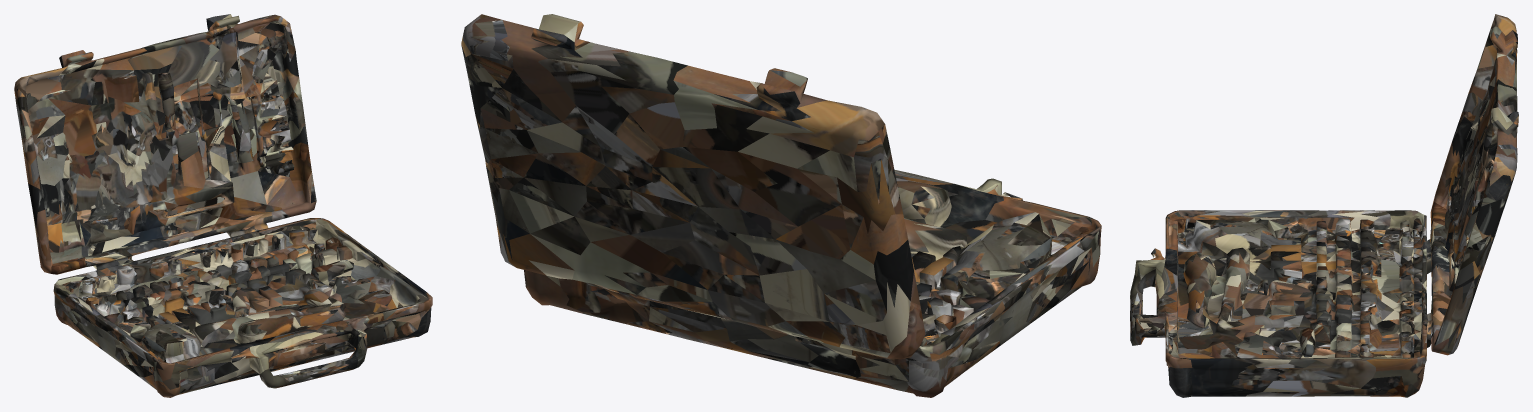
Rendered from toolbox.fbx.
3 views of the same model, side by side, from view 1: azimuth 30°, elevation 25°; view 2: azimuth 150°, elevation 25°; view 3: azimuth 270°, elevation 25° (orthographic). The views are drawn at different scales.
Parts seen in each view (by area): view 1: temp; view 2: temp; view 3: temp.
Boxes of the visible parts, <box> form: temp: <box>14,14,432,397</box>; temp: <box>461,14,1101,397</box>; temp: <box>1130,14,1518,397</box>.
Bounding box in the file's own units: 182 × 147 × 200.
